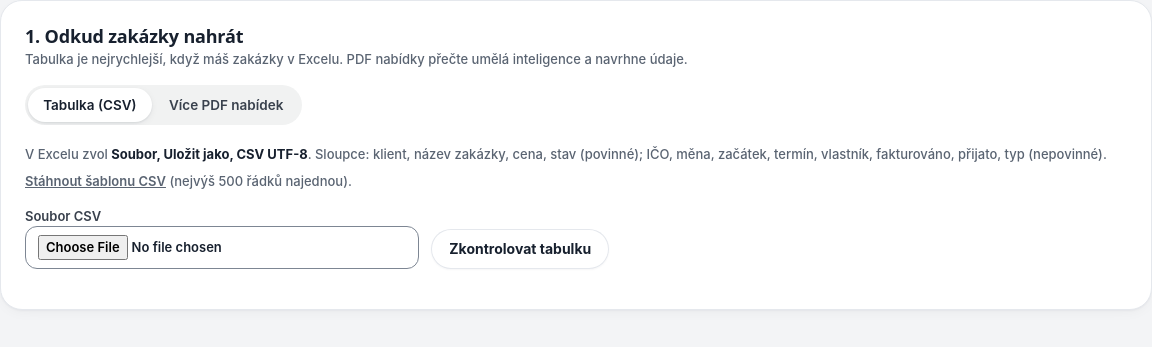
BulkImport: zdroje › s klíčem je vidět dropzóna PDF s limity
The width and height of the screenshot is (1152, 347).
Step 1. Click the button "Více PDF nabídek" → (226, 105), box [154,88,299,122]
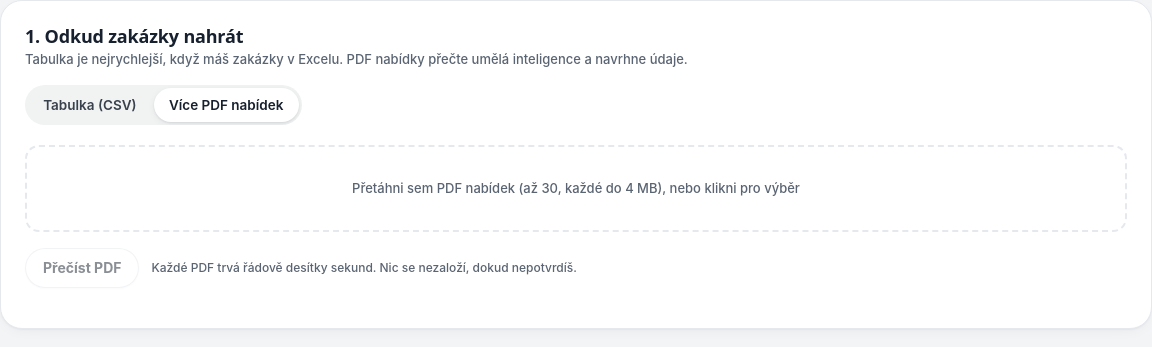
Expected: the element that starts with "Přetáhni sem PDF nabídek (až" is shown, [25,145,1127,288]
Result: the text "až 30" is shown at [25,145,1127,232]
Result: the text "4 MB" is shown at [25,145,1127,232]
